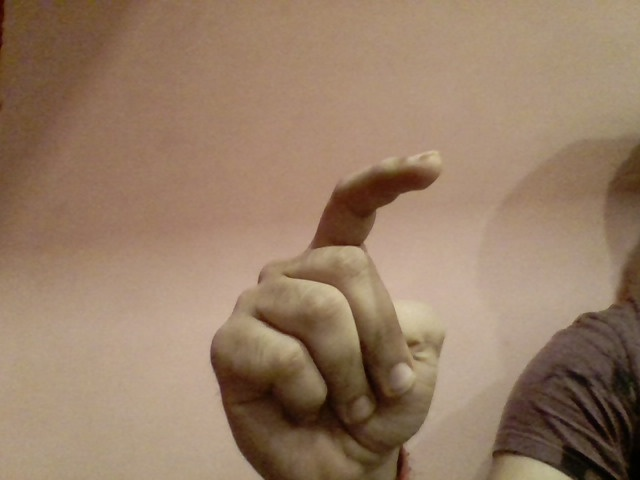x: (202, 139, 470, 477)
